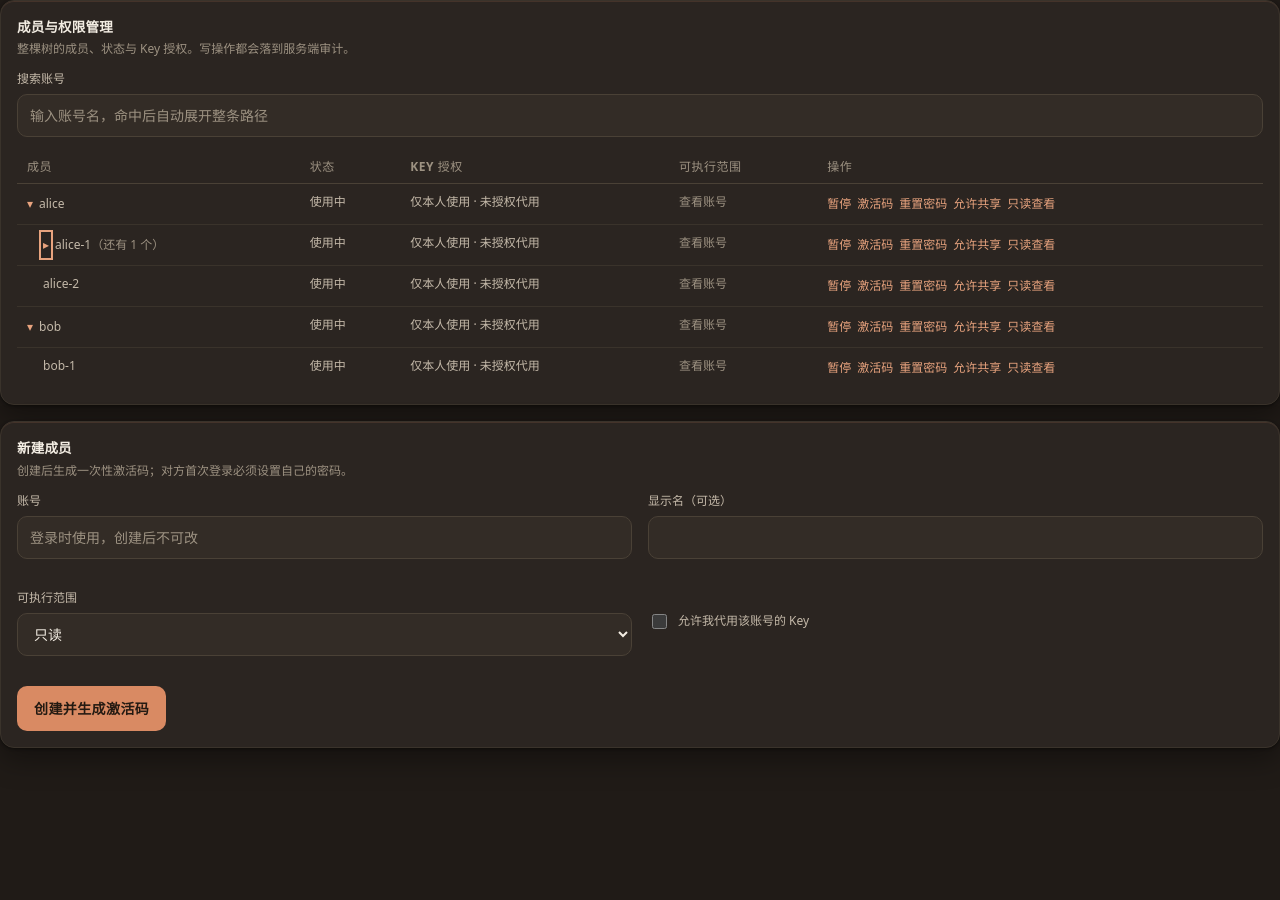
it: 成员页根视图：层级树折叠 › 点击折叠按钮展开子树，再点收起；按钮是原生 button 且 aria-expanded 跟随
The image size is (1280, 900).
Check: the number of column headings is 5, box [17,151,300,184]; [300,151,400,184]; [400,151,669,184]; [669,151,817,184]; [817,151,1263,184]
What coordinates should you click on to do the following:
click the button named "展开 alice-1"
I would click on:
 (46, 245)
Its box is [43,234,49,256].
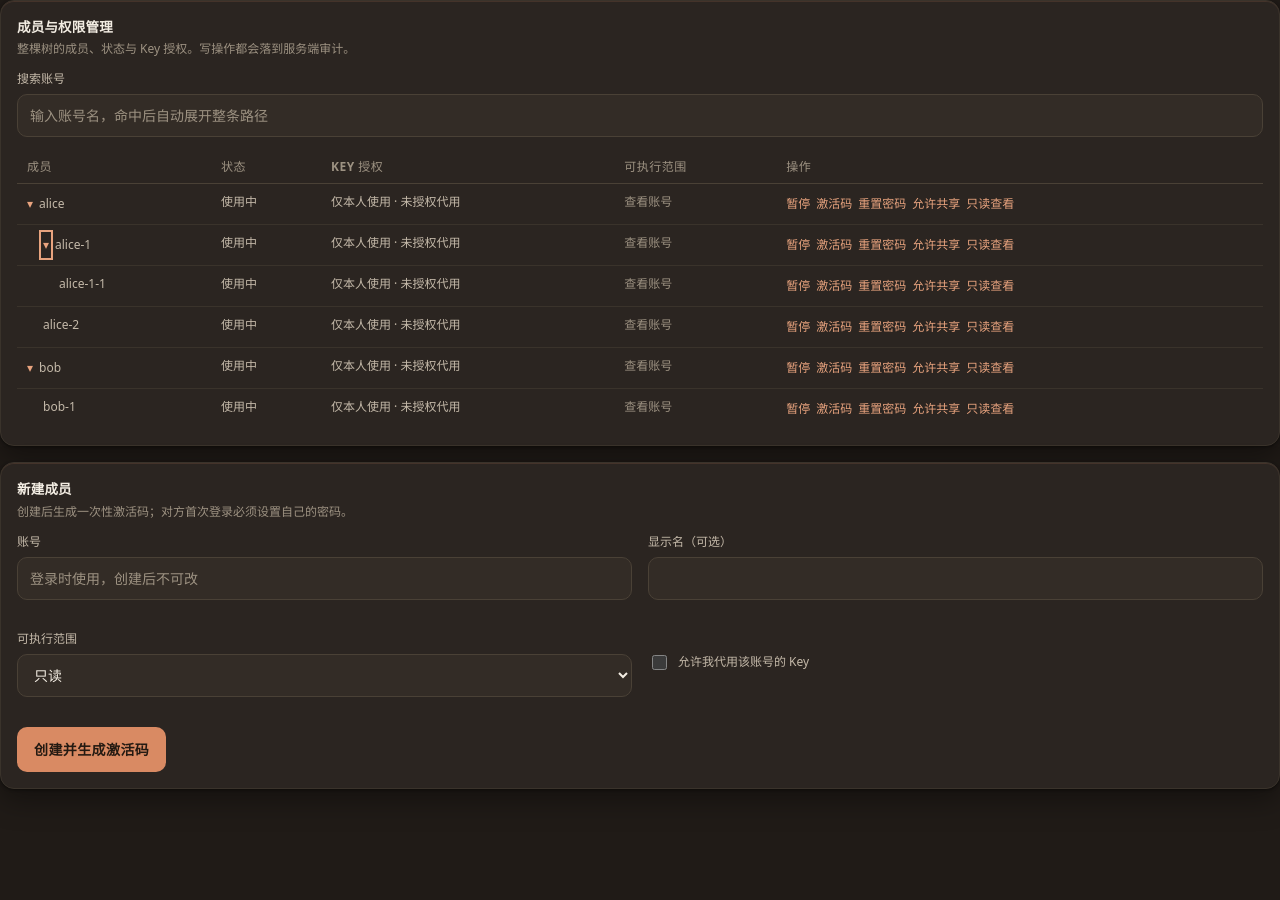
Check: the text "alice-1-1" is shown, box [59,275,106,292]
Check: the text "（还有 1 个）" is gone
Check: the button named "收起 alice-1" is expanded
What coordinates should you click on to do the following:
click the button named "收起 alice-1"
I would click on:
 (46, 245)
Its box is [43,234,49,256].
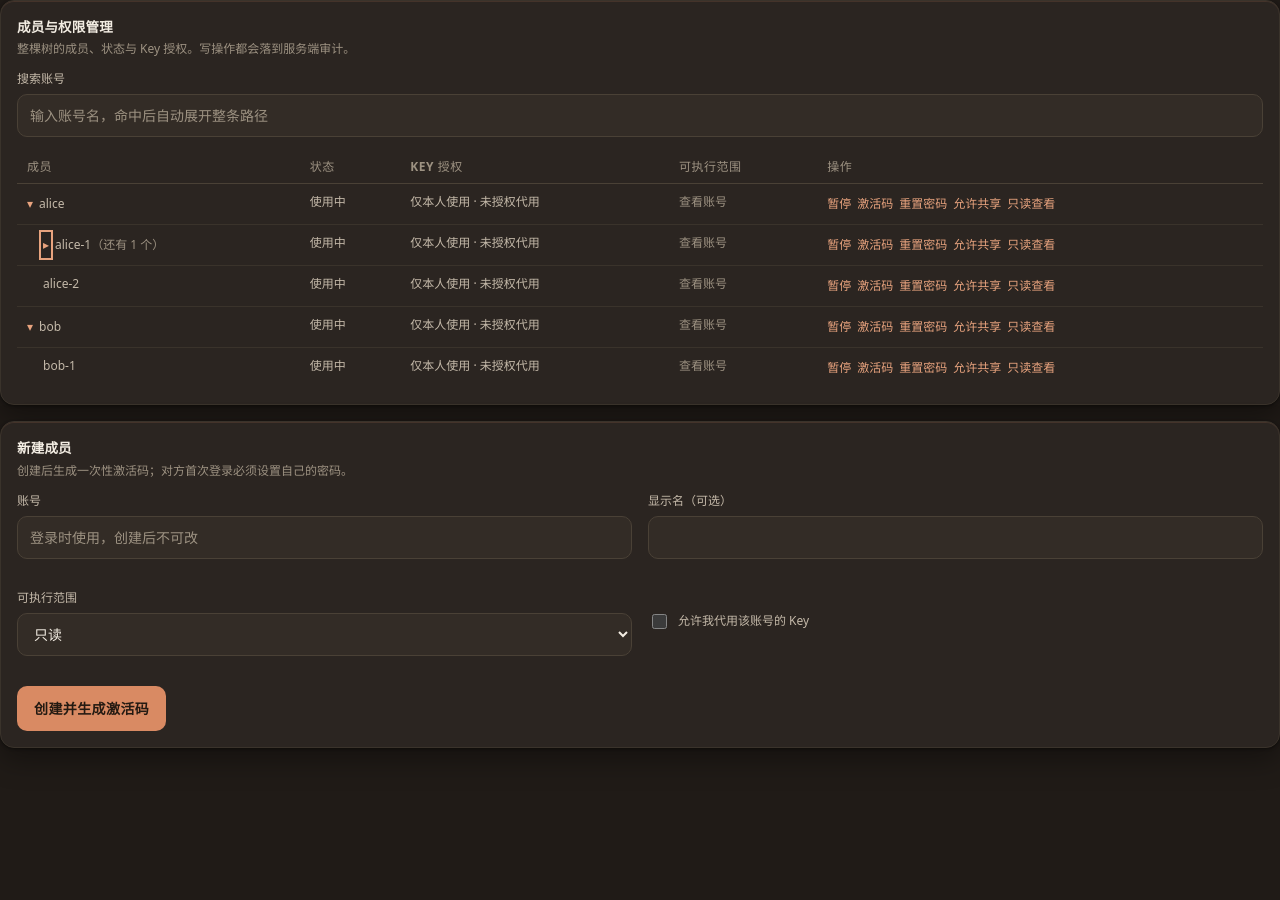
Check: the text "alice-1-1" is gone
